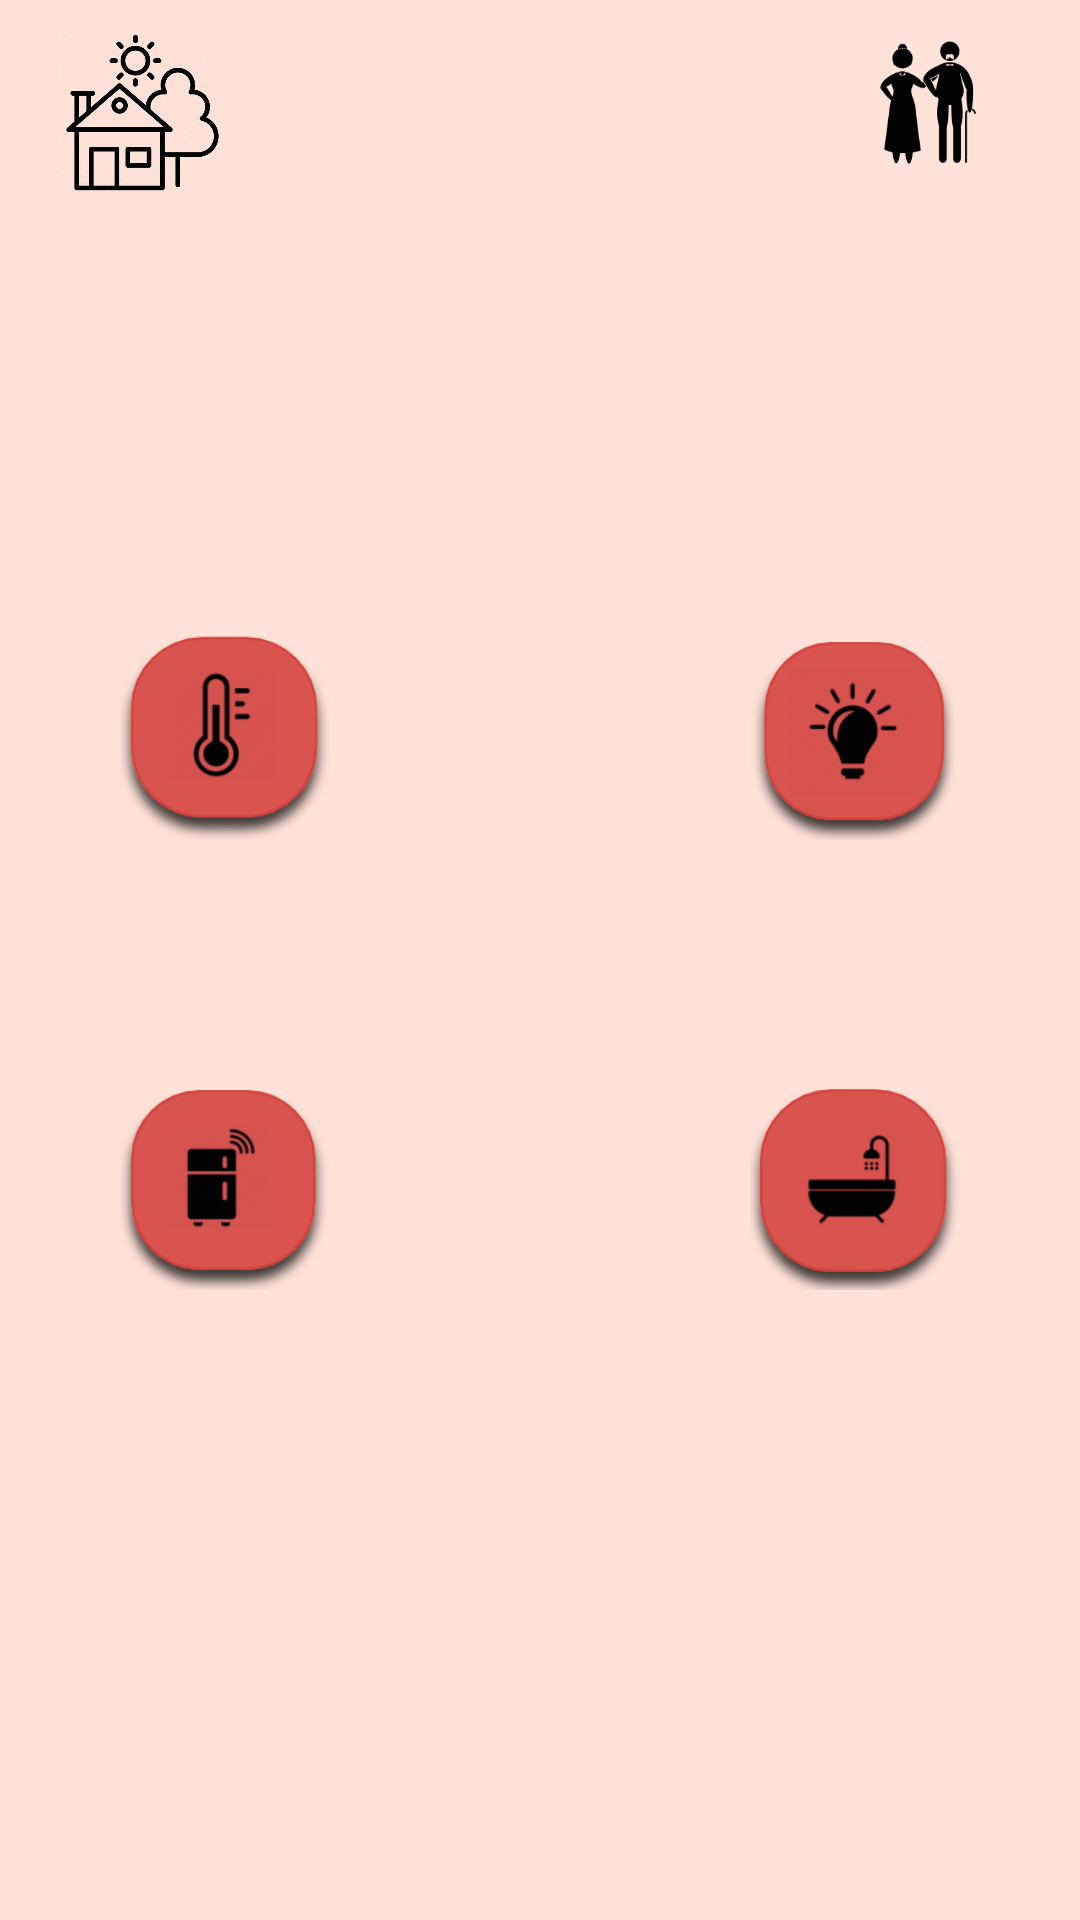

Named icons in this screenshot (1080×1920) and their centers, (x=x, y=y):
bathtub: (x=853, y=1189)
bulb: (x=854, y=740)
fridge: (x=223, y=1189)
grand parents: (x=928, y=102)
house: (x=142, y=112)
temperature: (x=224, y=736)
